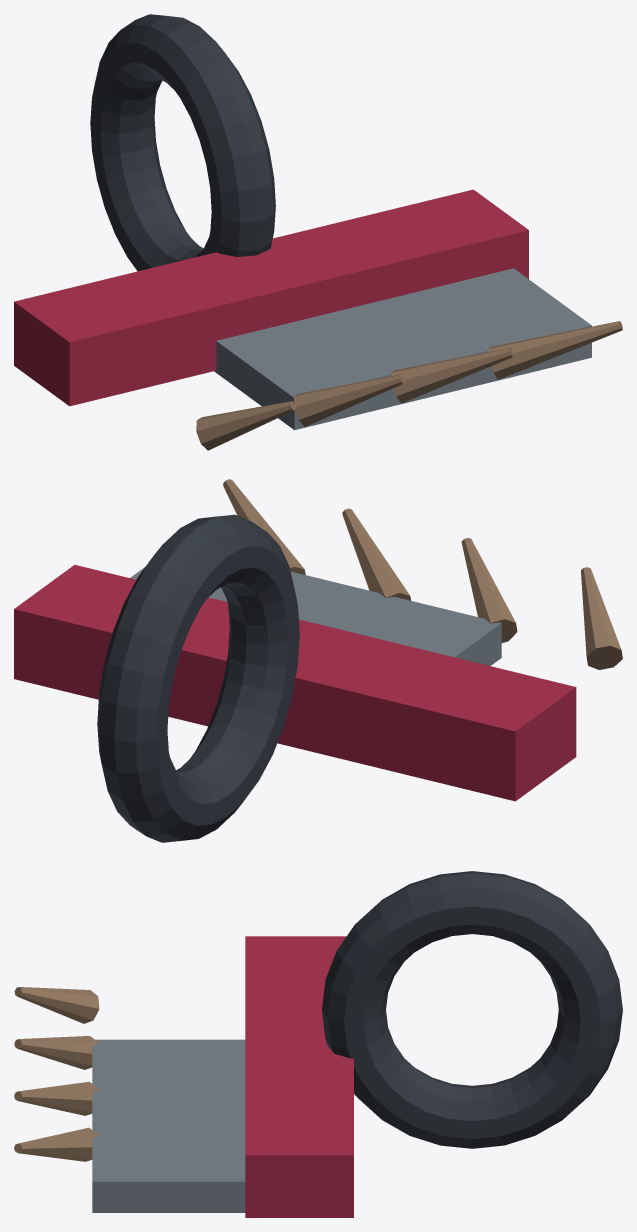
Rendered from road_debris.glb.
The picture shows the model from 3 angles, top to bottom: view 1: azimuth 30°, elevation 25°; view 2: azimuth 150°, elevation 25°; view 3: azimuth 270°, elevation 25°; orthographic projection. The views are drawn at different scales.
Parts seen in each view (by area): view 1: debris_bumper, debris_tire, debris_metal_panel, debris_splinter_3, debris_splinter_2, debris_splinter_1, debris_splinter_0; view 2: debris_bumper, debris_tire, debris_metal_panel, debris_splinter_0, debris_splinter_1, debris_splinter_2, debris_splinter_3; view 3: debris_tire, debris_bumper, debris_metal_panel, debris_splinter_0, debris_splinter_1, debris_splinter_2, debris_splinter_3.
Boxes of the visible parts, x1,y1,x2,y2 form: debris_bumper: (14, 189, 528, 406); debris_tire: (90, 14, 275, 271); debris_metal_panel: (214, 268, 591, 430); debris_splinter_3: (488, 321, 622, 379); debris_splinter_2: (391, 347, 513, 403); debris_splinter_1: (294, 374, 404, 426); debris_splinter_0: (196, 401, 295, 450); debris_bumper: (14, 564, 576, 801); debris_tire: (97, 514, 299, 842); debris_metal_panel: (130, 567, 501, 665); debris_splinter_0: (581, 567, 622, 669); debris_splinter_1: (461, 538, 517, 642); debris_splinter_2: (342, 508, 411, 600); debris_splinter_3: (223, 479, 305, 574); debris_tire: (322, 871, 622, 1148); debris_bumper: (245, 936, 353, 1217); debris_metal_panel: (92, 1039, 245, 1212); debris_splinter_0: (14, 987, 99, 1023); debris_splinter_1: (14, 1036, 98, 1069); debris_splinter_2: (14, 1081, 98, 1115); debris_splinter_3: (14, 1127, 98, 1161).
Bounding box in the file's own units: 1.05 × 0.61 × 1.23.
